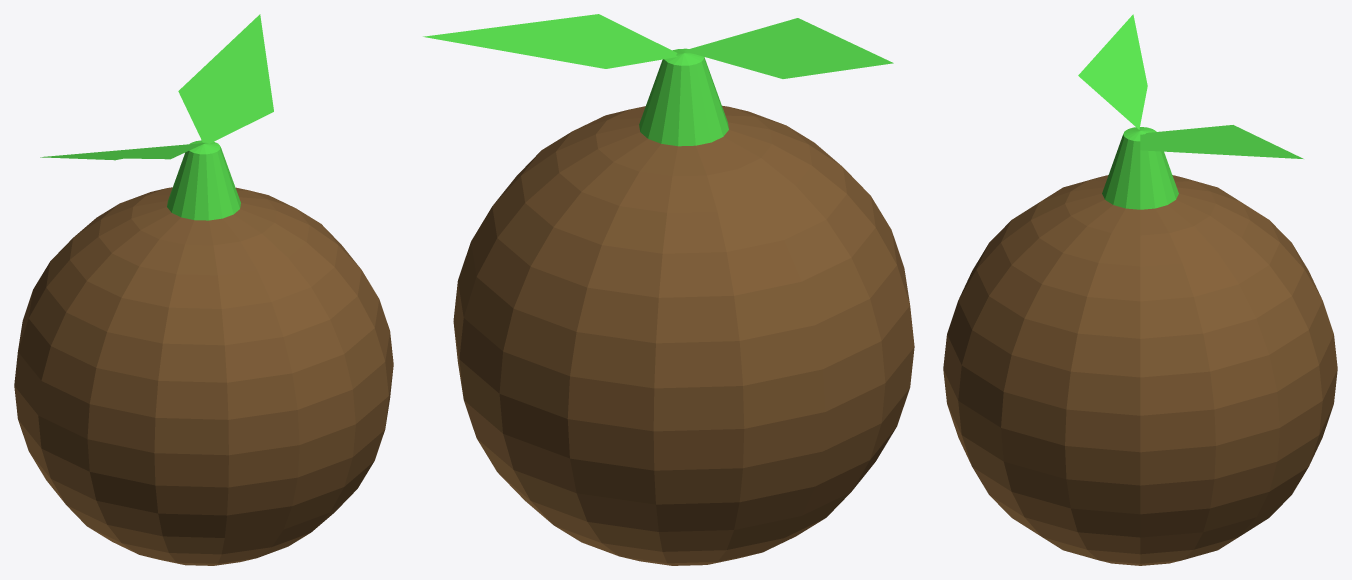
Rendered from healer.glb.
The picture shows the model from 3 angles, left to right: view 1: azimuth 30°, elevation 25°; view 2: azimuth 150°, elevation 25°; view 3: azimuth 270°, elevation 25°; orthographic projection. The views are drawn at different scales.
Visible parts, largest first — view 1: Sphere; view 2: Sphere; view 3: Sphere.
Boxes of the visible parts, left/top/right/bottom form: Sphere: left=14, top=14, right=393, bottom=565; Sphere: left=423, top=14, right=914, bottom=565; Sphere: left=943, top=14, right=1337, bottom=565.
Bounding box in the file's own units: 2.02 × 2.55 × 2.
